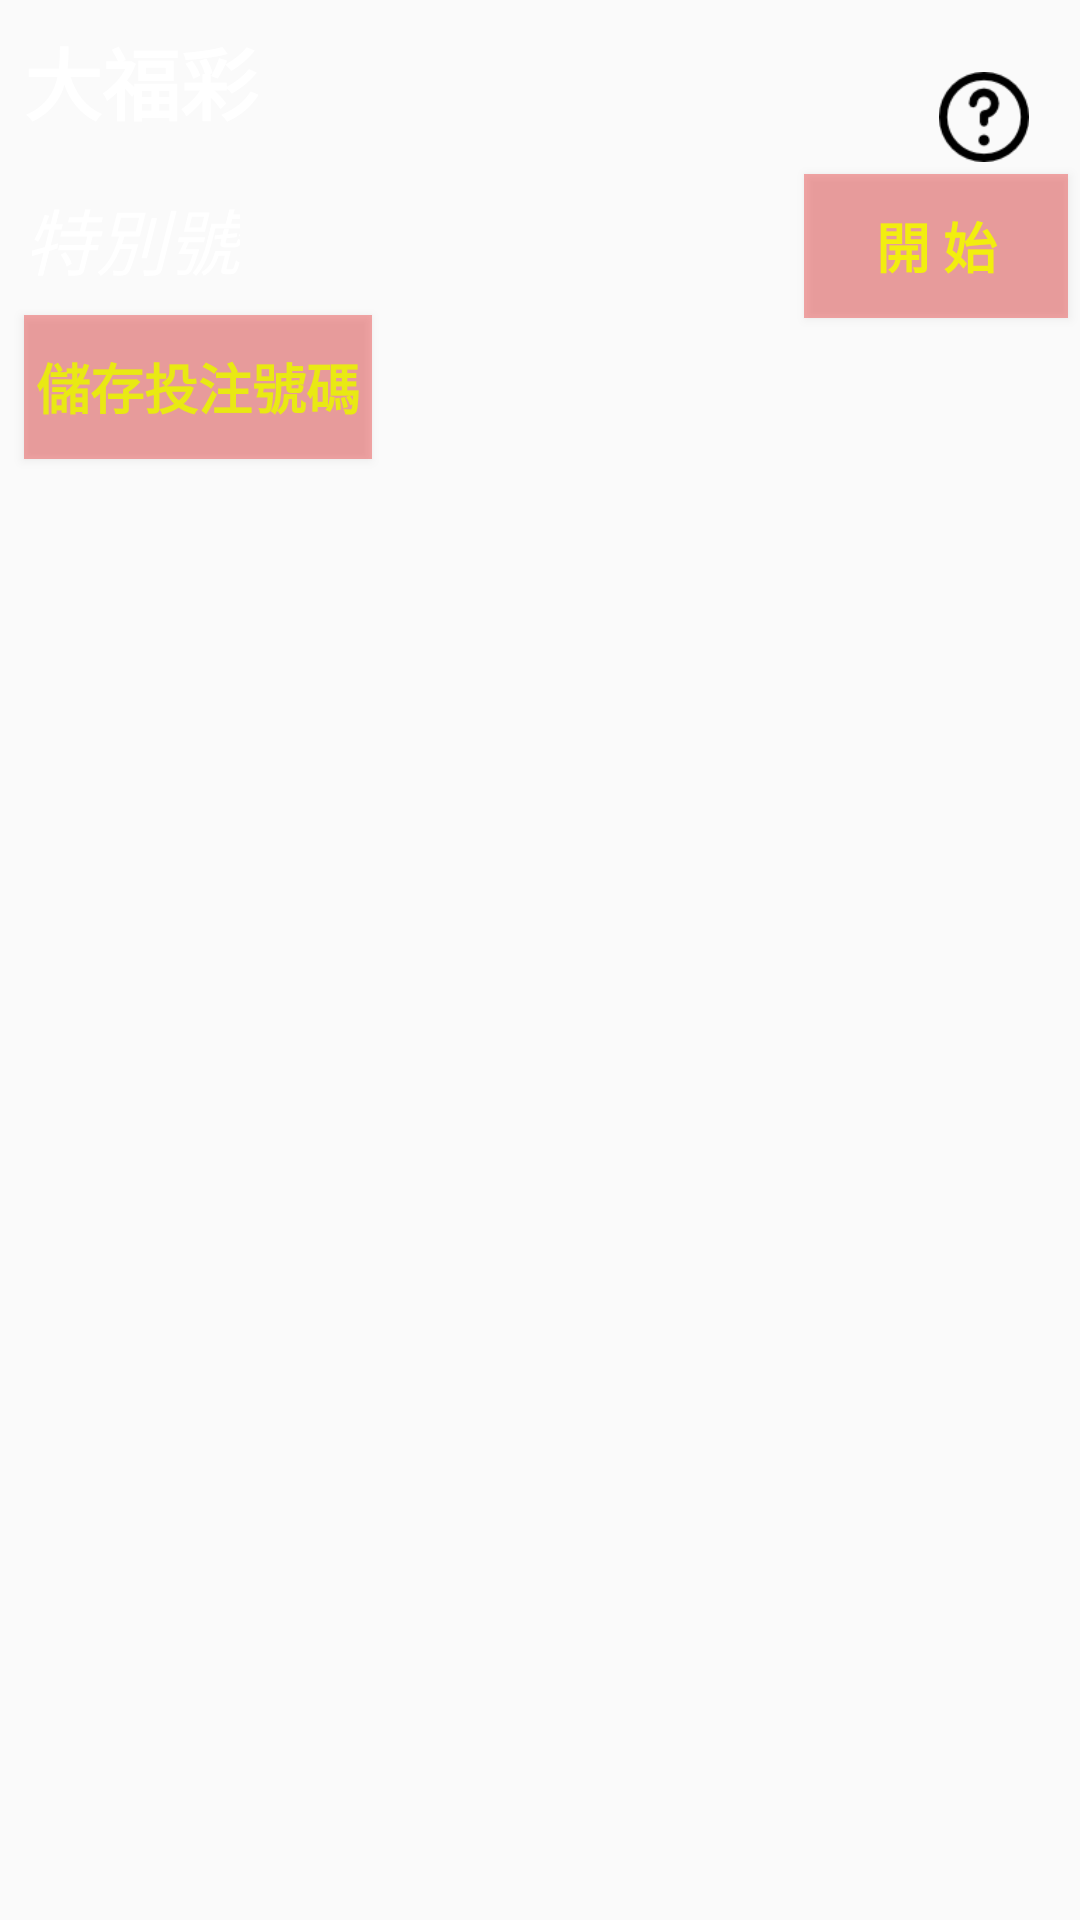

Named icons in this screenshot (1080×1920) and their centers, [x,y]:
help: [984,117]
